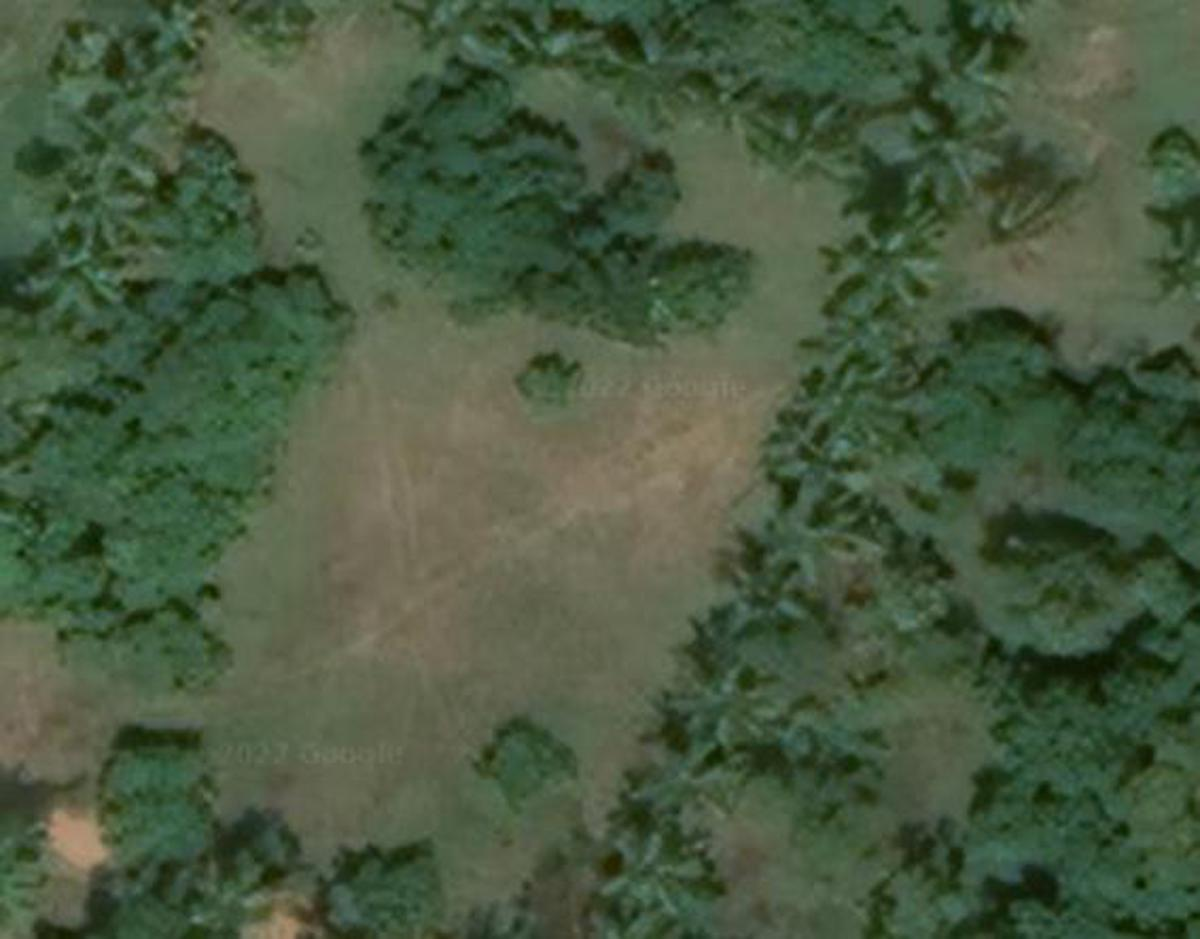coconut: (737, 453, 886, 591), (733, 80, 871, 186), (824, 209, 954, 320), (892, 103, 1021, 209), (21, 218, 142, 324), (595, 826, 722, 926), (616, 739, 756, 824), (915, 29, 1024, 131), (659, 659, 782, 748), (682, 597, 801, 682), (500, 10, 614, 97), (76, 110, 184, 201), (101, 33, 201, 129), (792, 353, 894, 447), (612, 44, 716, 135), (718, 546, 820, 614), (954, 4, 1047, 40), (148, 6, 214, 55)
